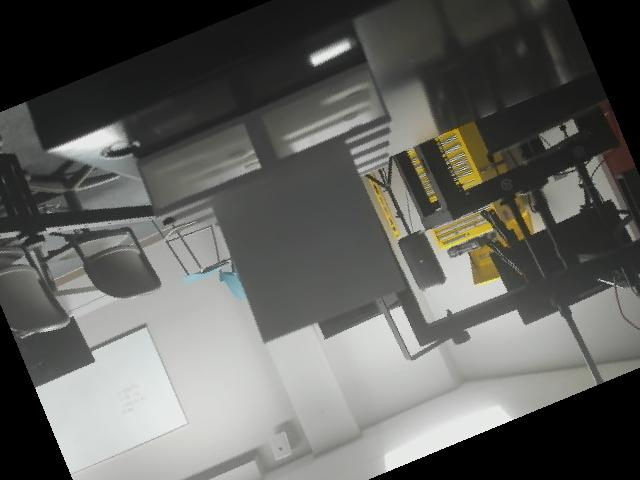grey pallet: (125, 51, 446, 346)
